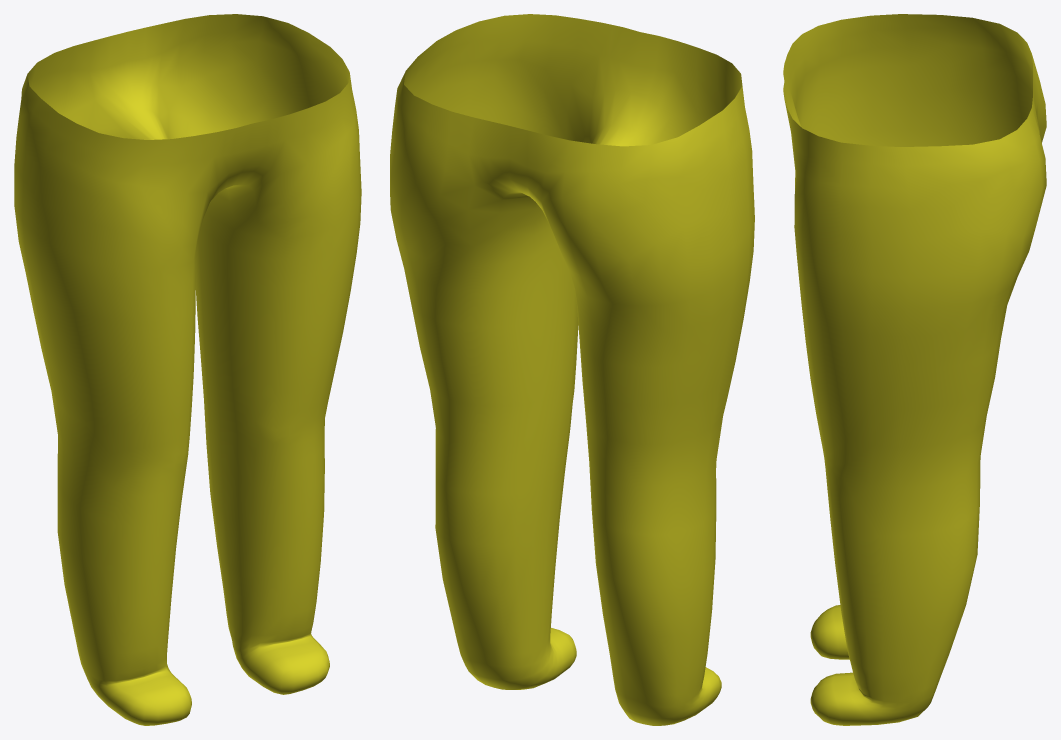
Rendered from sox_yellow_santa.fbx.
3 views of the same model, side by side, from view 1: azimuth 30°, elevation 25°; view 2: azimuth 150°, elevation 25°; view 3: azimuth 270°, elevation 25° (orthographic). The views are drawn at different scales.
Visible parts, largest first — view 1: sox_santa; view 2: sox_santa; view 3: sox_santa.
Boxes of the visible parts, x1,y1,x2,y2 form: sox_santa: (14,14,361,725); sox_santa: (390,14,754,725); sox_santa: (783,14,1046,725).
Bounding box in the file's own units: 0.8239 × 1.56 × 0.6189.
